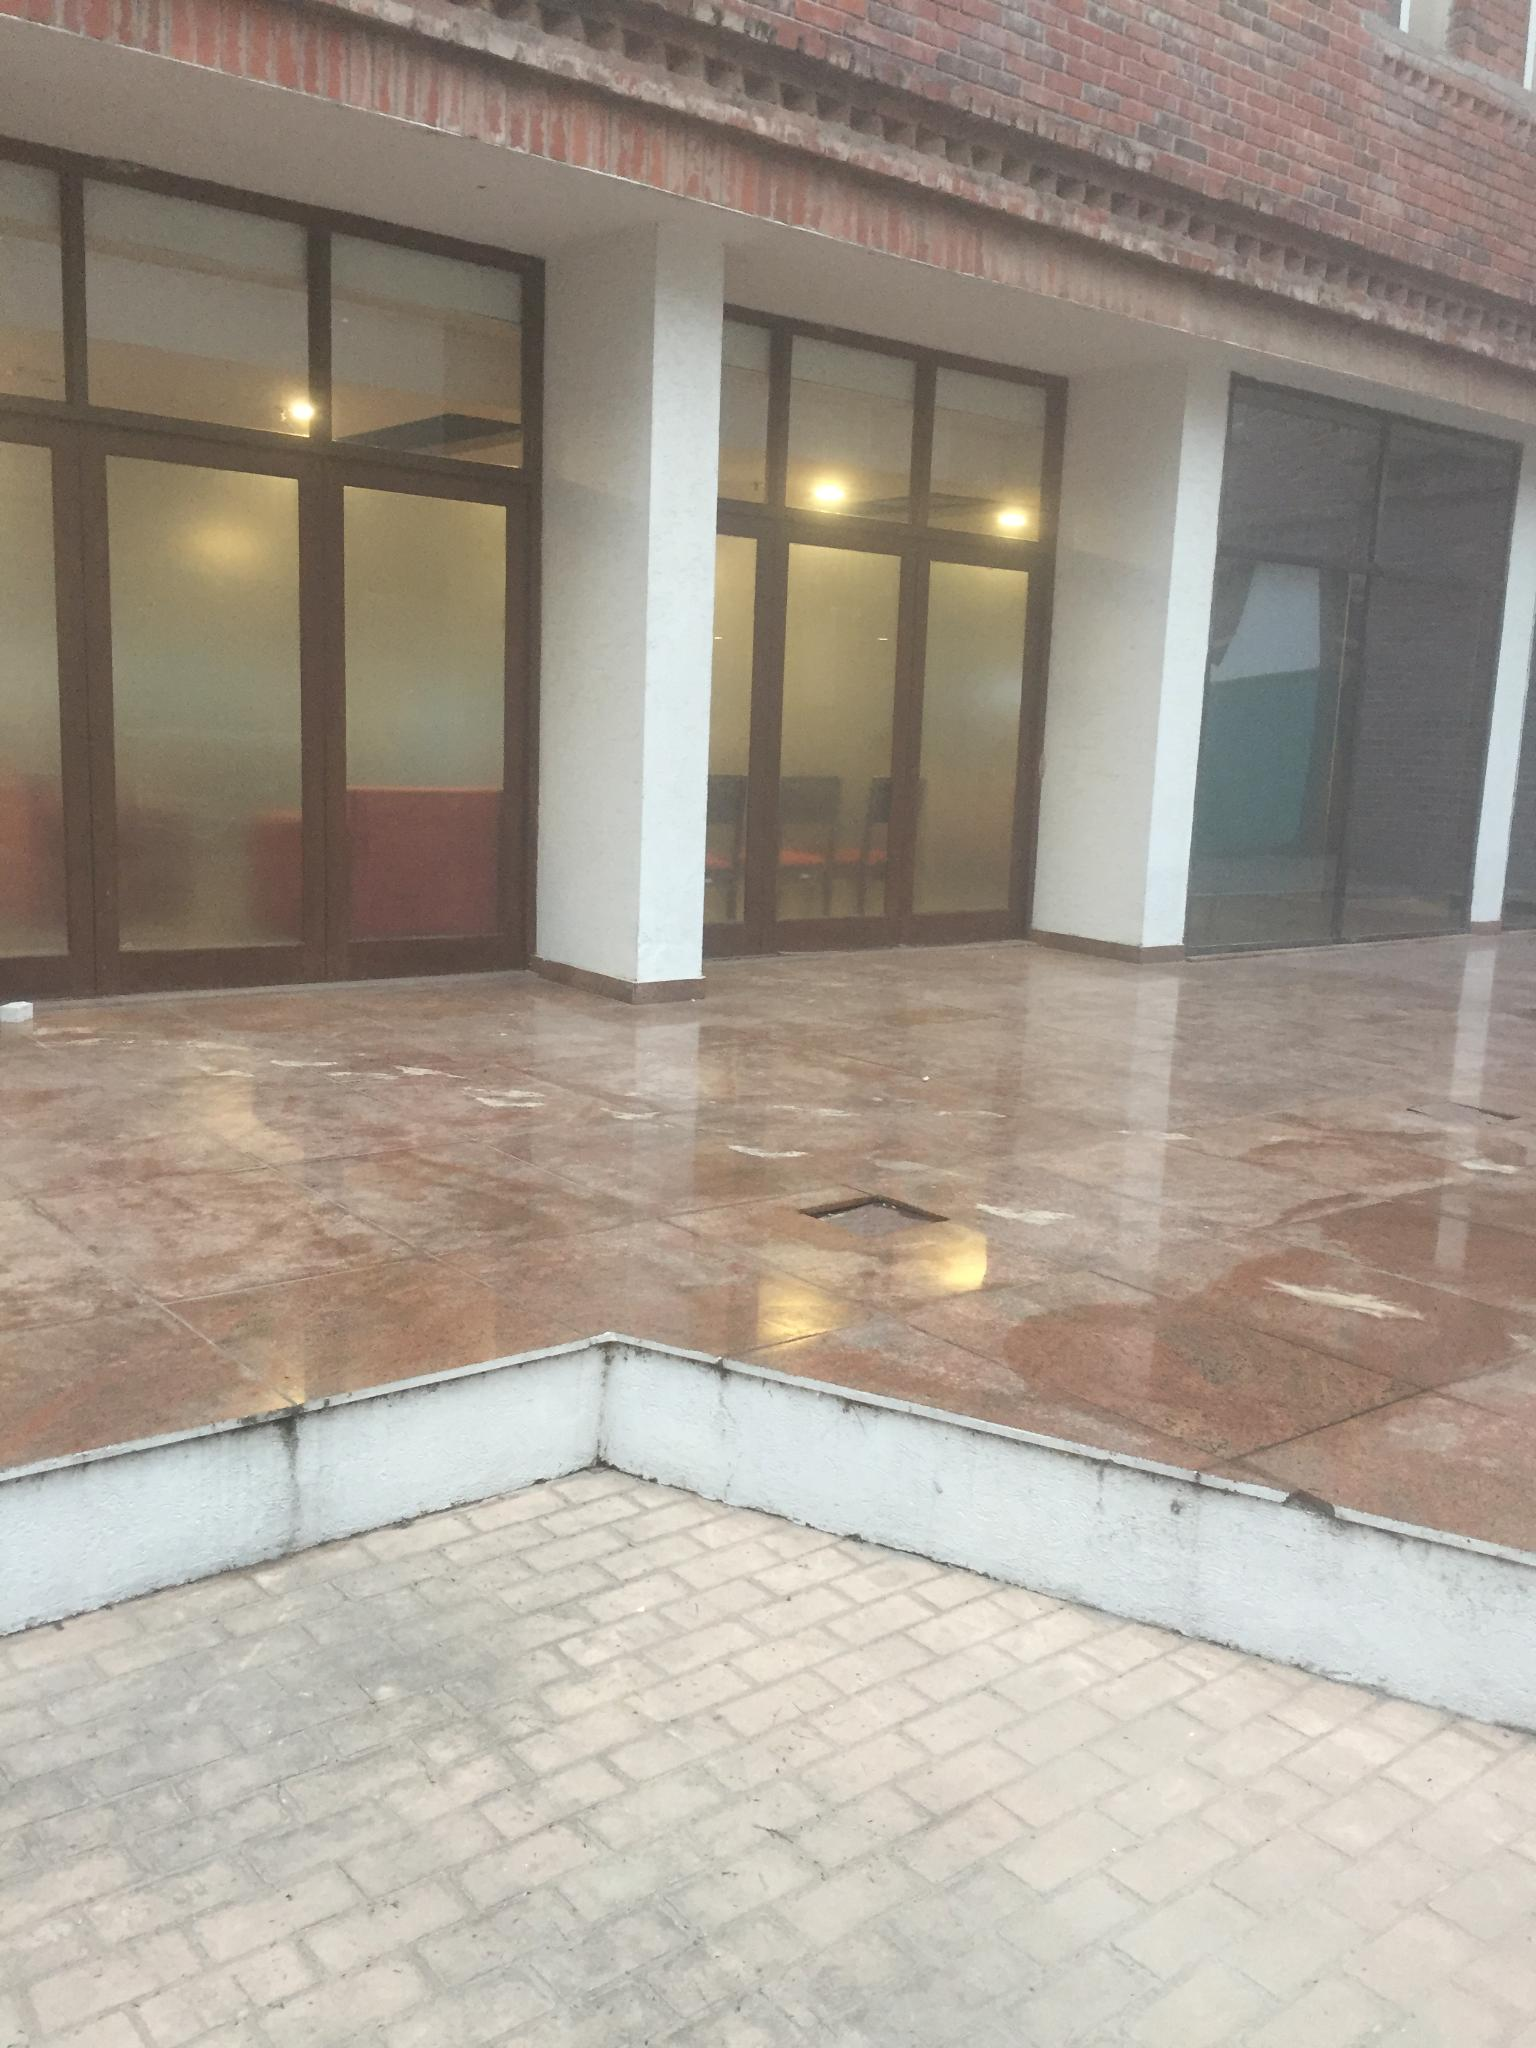chair: (842, 771, 931, 935), (771, 766, 845, 935), (712, 768, 762, 927)
